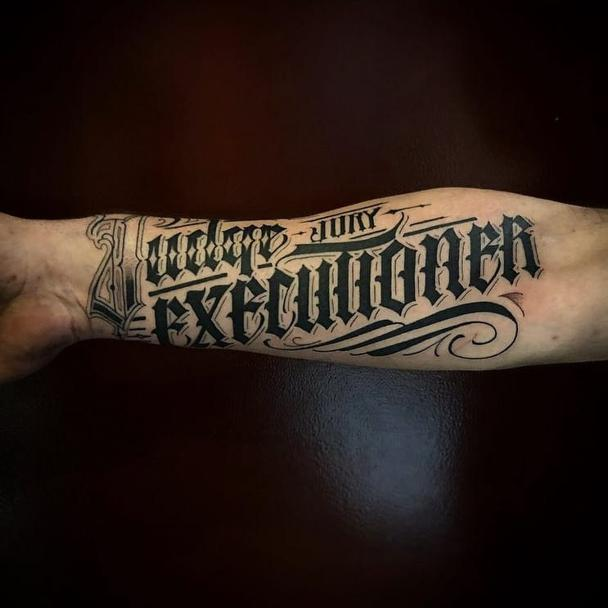tattoos: (83, 200, 544, 361)
